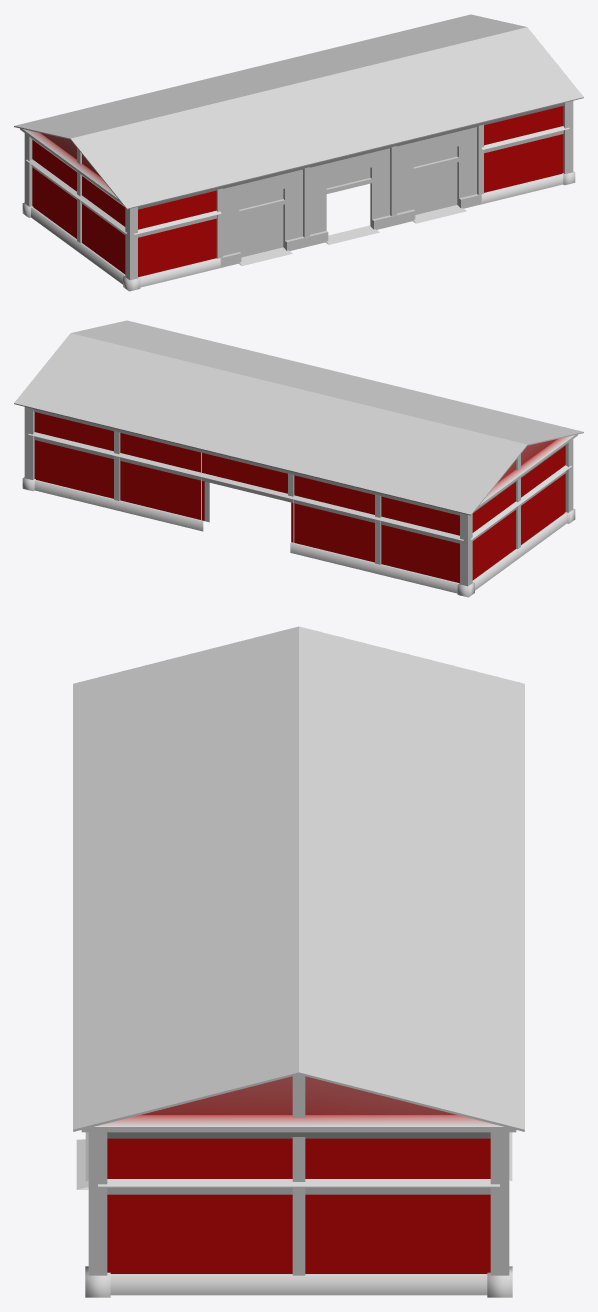
File: MenuGarage.fbx
The picture shows the model from 3 angles, top to bottom: view 1: azimuth 30°, elevation 25°; view 2: azimuth 150°, elevation 25°; view 3: azimuth 270°, elevation 25°; orthographic projection. The views are drawn at different scales.
Parts seen in each view (by area): view 1: Garage; view 2: Garage; view 3: Garage.
Boxes of the visible parts, x1=… form: Garage: x1=14, y1=14, x2=583, y2=291; Garage: x1=14, y1=320, x2=583, y2=597; Garage: x1=73, y1=626, x2=524, y2=1297.
Size of the model in its own units: 42 by 10.12 by 18.
